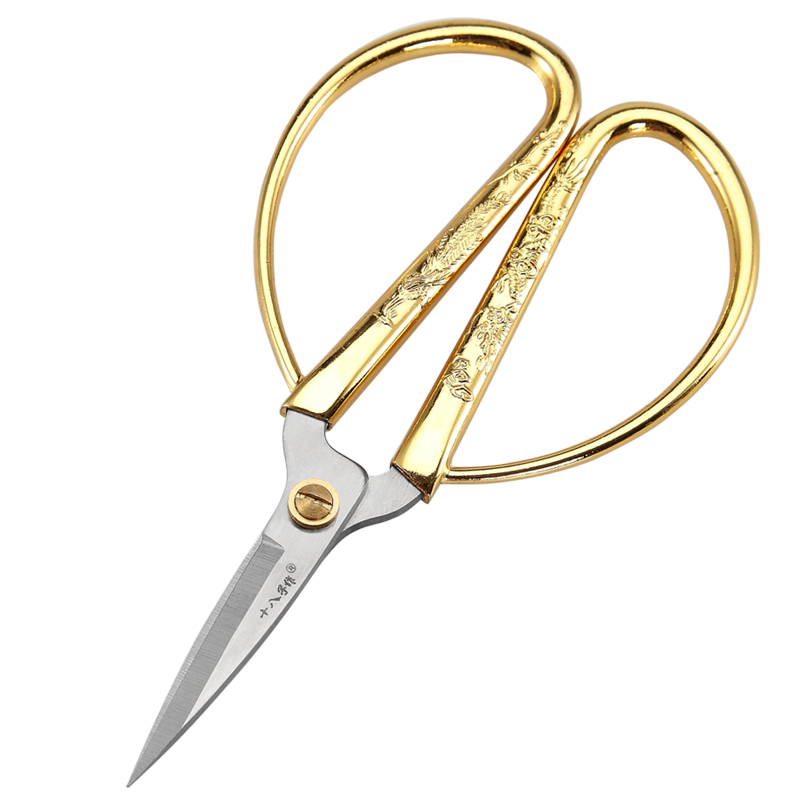scissors: (122, 13, 762, 794)
